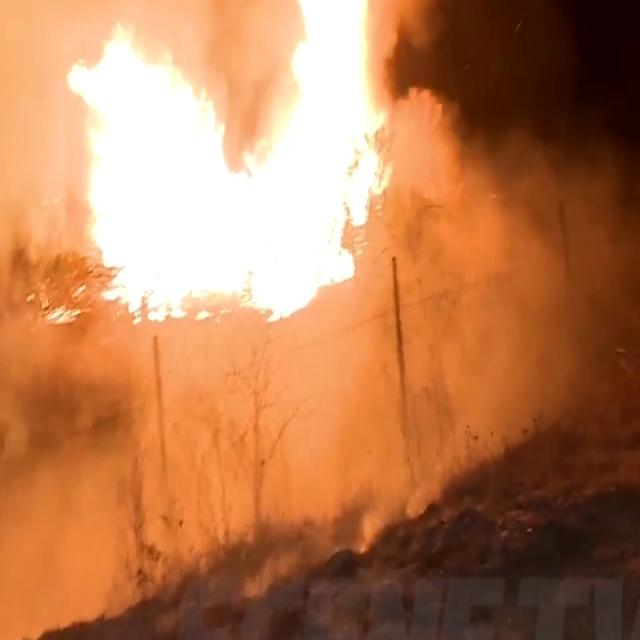fire: (73, 0, 440, 313)
